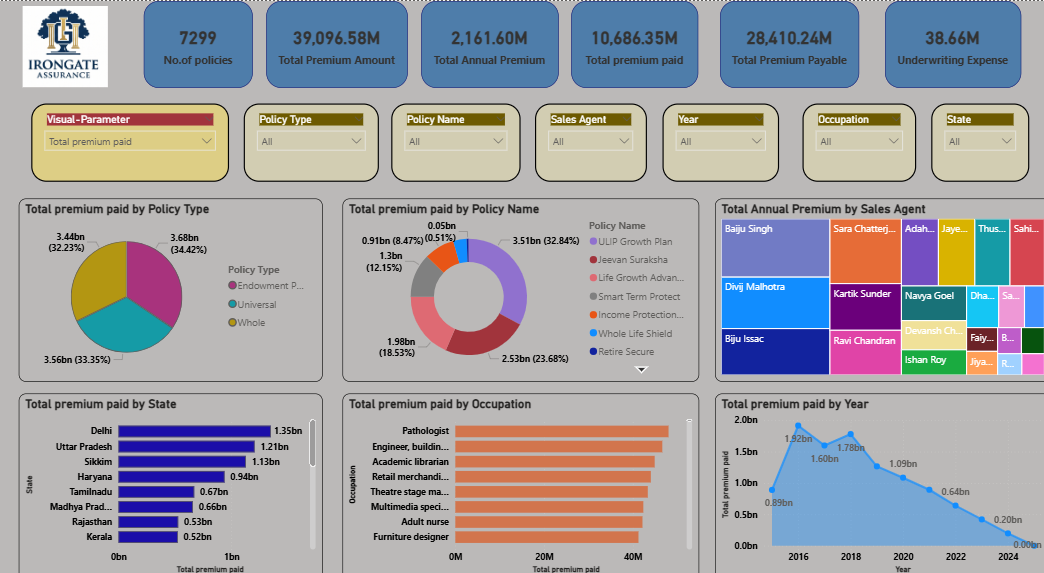

This screenshot's page, from the dashboard's own definition file:
{"tool":"powerbi","page":{"name":"Insurance Overview","canvas":[1450,800],"ordinal":1},"visuals":[{"type":"card","fields":{"Values":["CountNonNull(DM Customer_Detail_Table (2).Customer ID)"]},"box":[198.5,0,150.8,120],"z":0},{"type":"card","fields":{"Values":["Sum(FCT Insurance_Policy_Table.Total Annual Premium)"]},"box":[581.5,0,189.2,120],"z":1000},{"type":"card","fields":{"Values":["Sum(FCT Insurance_Policy_Table.Total Premium Amount)"]},"box":[367.7,0,195.4,120],"z":2000},{"type":"card","fields":{"Values":["Sum(FCT Insurance_Policy_Table.Total premium paid)"]},"box":[787.7,0,175.4,120],"z":3000},{"type":"card","fields":{"Values":["Sum(FCT Insurance_Policy_Table.Total Premium Payable)"]},"box":[993.8,0,192.3,120],"z":4000},{"type":"card","fields":{"Values":["FCT Insurance_Policy_Table.Underwriting Expense"]},"box":[1220,0,187.7,120],"z":5000},{"type":"image","box":[0,7.7,180,112.3],"z":6000},{"type":"slicer","fields":{"Values":["DM Policy_Type.Policy Type"]},"box":[336.5,141.9,186.5,108.1],"z":7000},{"type":"slicer","fields":{"Values":["DM Policy_Protection_Plan.Policy Name"]},"box":[539.2,141.9,178.4,108.1],"z":8000},{"type":"slicer","fields":{"Values":["DM Insurance_Agent_Table.Sales Agent"]},"box":[737.8,141.9,154.1,108.1],"z":9000},{"type":"slicer","fields":{"Values":["FCT Insurance_Policy_Table.Date of Purchase.Variation.Date Hierarchy.Year"]},"box":[913.5,141.9,160.8,108.1],"z":10000},{"type":"slicer","fields":{"Values":["DM Customer_Detail_Table (2).Occupation"]},"box":[1106.8,141.9,156.8,108.1],"z":11000},{"type":"slicer","fields":{"Values":["DM Customer_Detail_Table (2).State"]},"box":[1285.1,141.9,135.1,108.1],"z":12000},{"type":"donutChart","fields":{"Y":["FCT Insurance_Policy_Table.Total Premium_Amount"],"Category":["DM Policy_Protection_Plan.Policy Name"]},"box":[471.6,273,491.9,252.7],"z":13000},{"type":"pieChart","fields":{"Y":["FCT Insurance_Policy_Table.Total Premium_Amount"],"Category":["DM Policy_Type.Policy Type"]},"box":[25.7,273,418.9,252.7],"z":14000},{"type":"treemap","fields":{"Values":["Sum(FCT Insurance_Policy_Table.Total Annual Premium)"],"Group":["DM Insurance_Agent_Table.Sales Agent"]},"box":[986.5,273,463.5,252.7],"z":15000},{"type":"barChart","fields":{"Y":["FCT Insurance_Policy_Table.Total Premium_Amount"],"Category":["DM Customer_Detail_Table (2).Occupation"]},"box":[471.6,541.9,491.9,258.1],"z":16000},{"type":"barChart","fields":{"Y":["FCT Insurance_Policy_Table.Total Premium_Amount"],"Category":["DM Customer_Detail_Table (2).State"]},"box":[25.7,541.9,418.9,258.1],"z":17000},{"type":"areaChart","fields":{"Y":["FCT Insurance_Policy_Table.Total Premium_Amount"],"Category":["FCT Insurance_Policy_Table.Date of Purchase.Variation.Date Hierarchy.Year"]},"box":[986.5,541.9,463.5,258.1],"z":18000},{"type":"slicer","fields":{"Values":["Visual-Parameter.Visual-Parameter"]},"box":[43.2,141.9,273,108.1],"z":19000}]}

Visuals, with their boxes in screenshot pixels (x1, y1, x2, y2), scaled from the page's 1450x800 canvas onto the 1044x573 screenshot:
card - CountNonNull(DM Customer_Detail_Table (2).Customer ID): <box>143,0,251,86</box>
card - Sum(FCT Insurance_Policy_Table.Total Annual Premium): <box>419,0,555,86</box>
card - Sum(FCT Insurance_Policy_Table.Total Premium Amount): <box>265,0,405,86</box>
card - Sum(FCT Insurance_Policy_Table.Total premium paid): <box>567,0,693,86</box>
card - Sum(FCT Insurance_Policy_Table.Total Premium Payable): <box>716,0,854,86</box>
card - FCT Insurance_Policy_Table.Underwriting Expense: <box>878,0,1014,86</box>
image: <box>0,6,130,86</box>
slicer - DM Policy_Type.Policy Type: <box>242,102,377,179</box>
slicer - DM Policy_Protection_Plan.Policy Name: <box>388,102,517,179</box>
slicer - DM Insurance_Agent_Table.Sales Agent: <box>531,102,642,179</box>
slicer - FCT Insurance_Policy_Table.Date of Purchase.Variation.Date Hierarchy.Year: <box>658,102,773,179</box>
slicer - DM Customer_Detail_Table (2).Occupation: <box>797,102,910,179</box>
slicer - DM Customer_Detail_Table (2).State: <box>925,102,1023,179</box>
donutChart - FCT Insurance_Policy_Table.Total Premium_Amount x DM Policy_Protection_Plan.Policy Name: <box>340,196,694,377</box>
pieChart - FCT Insurance_Policy_Table.Total Premium_Amount x DM Policy_Type.Policy Type: <box>19,196,320,377</box>
treemap - Sum(FCT Insurance_Policy_Table.Total Annual Premium) x DM Insurance_Agent_Table.Sales Agent: <box>710,196,1043,377</box>
barChart - FCT Insurance_Policy_Table.Total Premium_Amount x DM Customer_Detail_Table (2).Occupation: <box>340,388,694,572</box>
barChart - FCT Insurance_Policy_Table.Total Premium_Amount x DM Customer_Detail_Table (2).State: <box>19,388,320,572</box>
areaChart - FCT Insurance_Policy_Table.Total Premium_Amount x FCT Insurance_Policy_Table.Date of Purchase.Variation.Date Hierarchy.Year: <box>710,388,1043,572</box>
slicer - Visual-Parameter.Visual-Parameter: <box>31,102,228,179</box>
